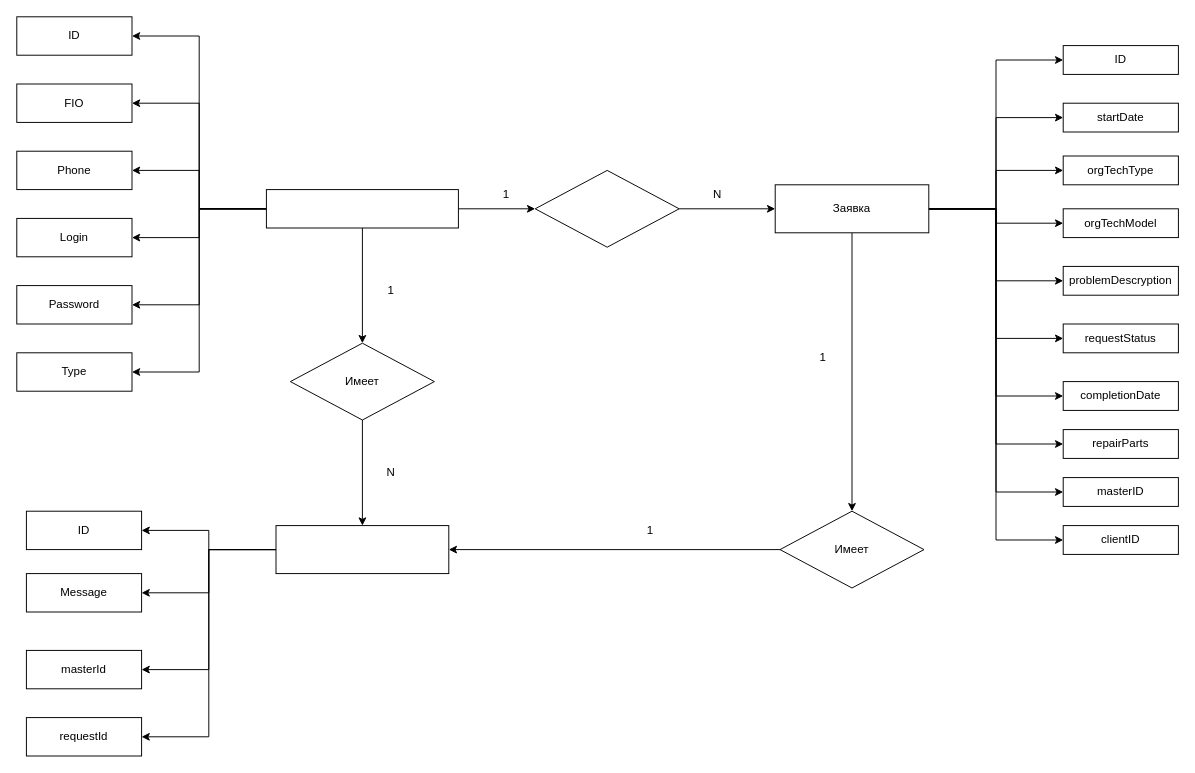
The diagram is 1195 pixels wide and 773 high, and some of its shapes have lost their labels. The shapes that lost their labels are listed below. From the top down, each one's centre as x and y in pixels, then its label:
At (361,208): "Пользователь".
At (606,208): "Создаёт".
At (362,549): "Комментарии".
